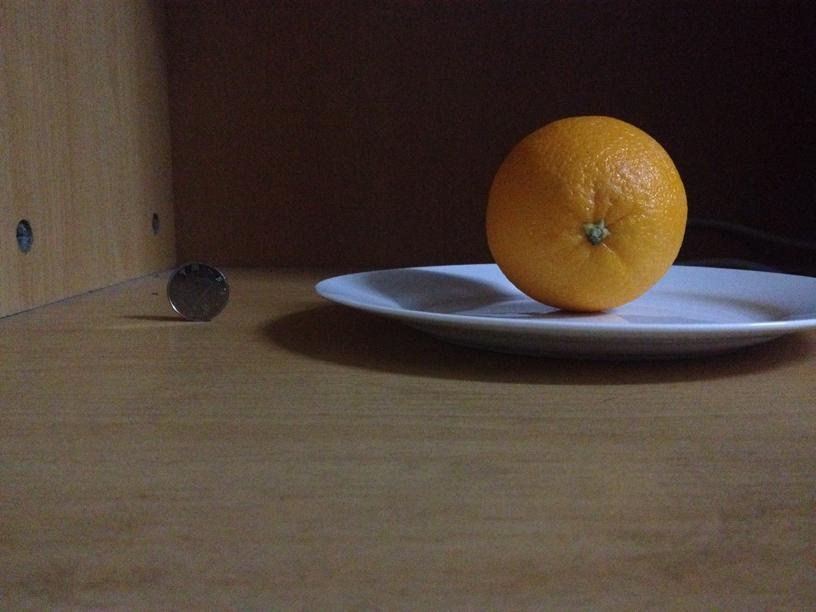coin: (164, 264, 228, 320)
orange: (484, 117, 690, 311)
